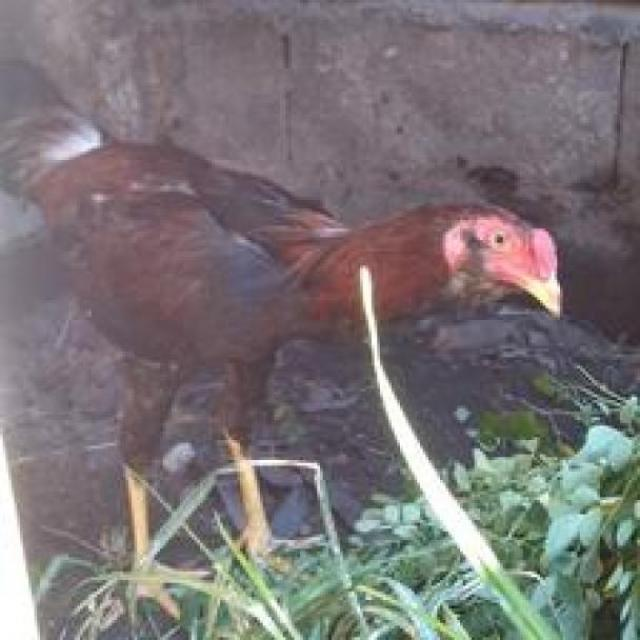Chicken: (0, 26, 595, 586)
